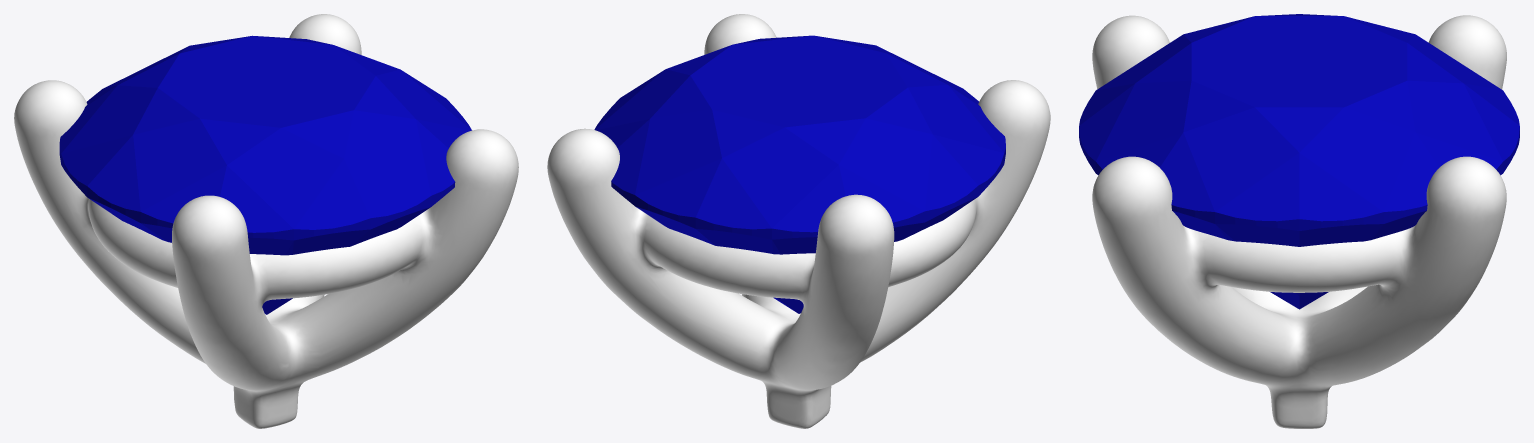
File: Round.3dm.glb
3 renders of one model, left to right at view 1: azimuth 30°, elevation 25°; view 2: azimuth 150°, elevation 25°; view 3: azimuth 270°, elevation 25°, orthographic. The views are drawn at different scales.
Visible parts, largest first — view 1: Diamond_Round, /Round.3dm; view 2: Diamond_Round, /Round.3dm; view 3: Diamond_Round, /Round.3dm.
Boxes of the visible parts, <box> form: Diamond_Round: <box>59,35,471,314</box>; /Round.3dm: <box>14,14,518,428</box>; Diamond_Round: <box>594,35,1005,313</box>; /Round.3dm: <box>547,14,1050,428</box>; Diamond_Round: <box>1079,14,1519,309</box>; /Round.3dm: <box>1092,15,1506,428</box>.
Bounding box in the file's own units: 7.99 × 7.19 × 7.99.
